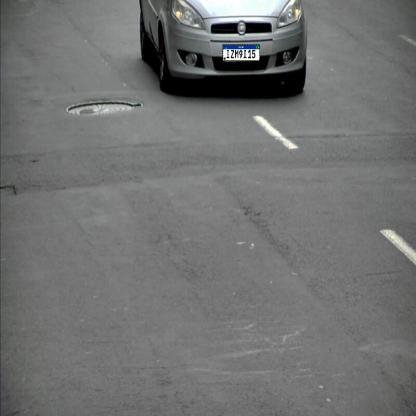PlacaM: (223, 44, 260, 61)
